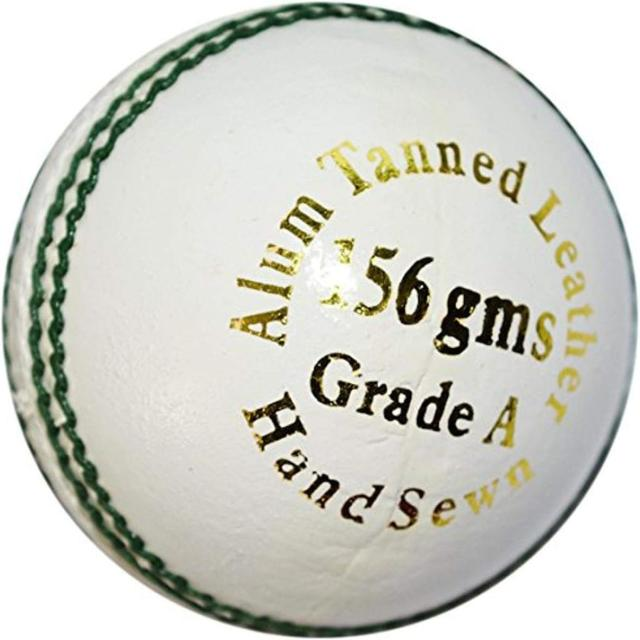ball: (6, 1, 637, 633)
